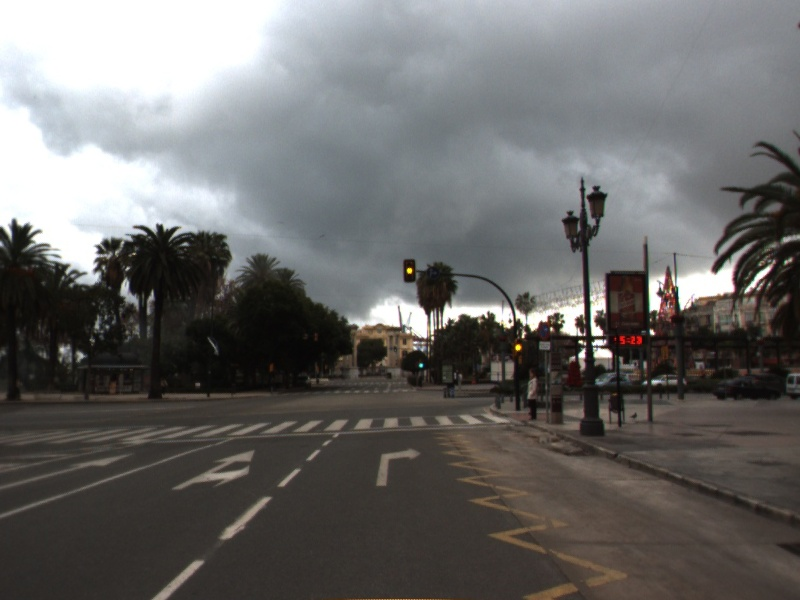RIGHT: (374, 444, 425, 489)
STRAIGHT: (1, 451, 138, 490)
STRAIGHT_RIGHT: (169, 447, 258, 493)
